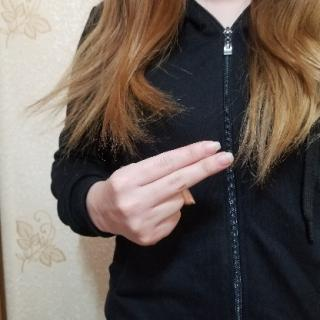AYN: (92, 137, 239, 250)
